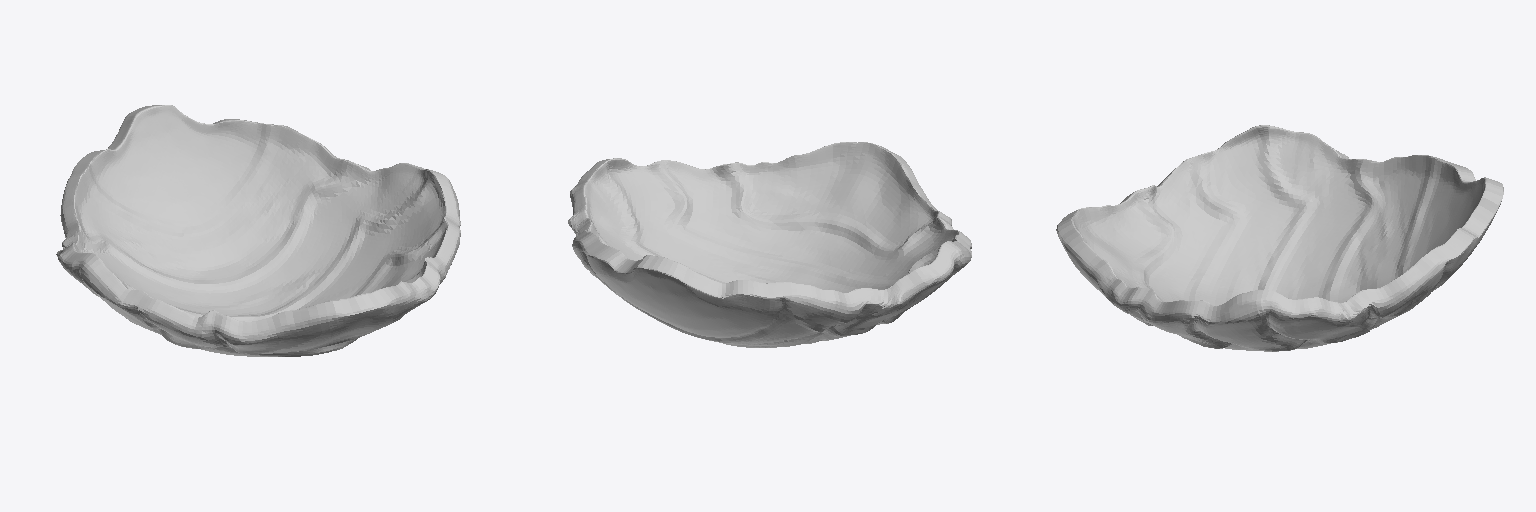
Rendered from Cutie pie_armor.OBJ.
3 views of the same model, side by side, from view 1: azimuth 30°, elevation 25°; view 2: azimuth 150°, elevation 25°; view 3: azimuth 270°, elevation 25° (orthographic).
Visible parts, largest first — view 1: Group48274; view 2: Group48274; view 3: Group48274.
Boxes of the visible parts, x1=… form: Group48274: x1=56, y1=105, x2=460, y2=356; Group48274: x1=568, y1=142, x2=971, y2=347; Group48274: x1=1056, y1=125, x2=1503, y2=351.
Size of the model in its own units: 2.53 by 0.9636 by 2.65.